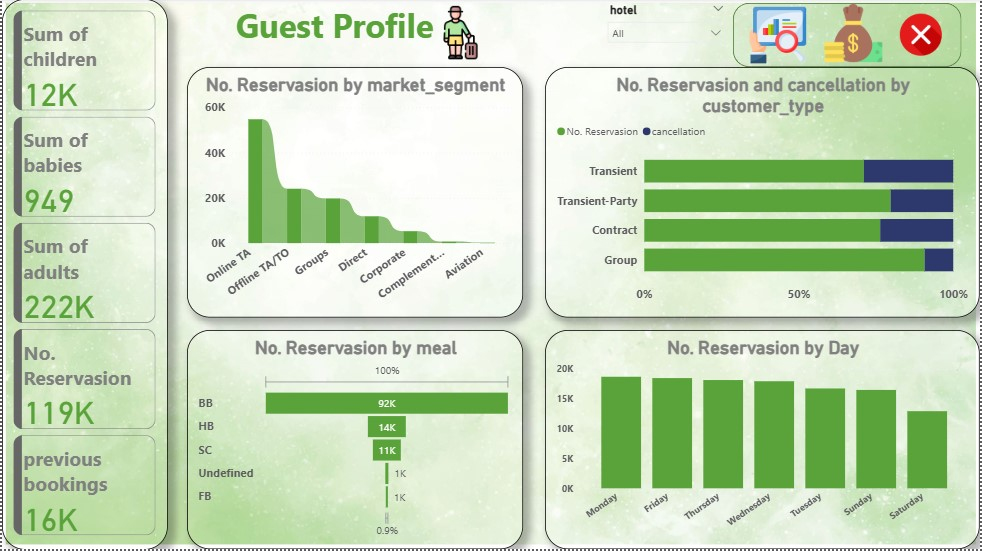

Layout of this report page (visuals, bound fields, positions):
{"tool":"powerbi","page":{"name":"Operational & Guest Profile","canvas":[1280,720],"ordinal":3},"visuals":[{"type":"image","box":[0,0,1280,719.5],"z":0},{"type":"cardVisual","fields":{"Data":["Sum(FactReservation.children)","Sum(FactReservation.babies)","Sum(FactReservation.adults)","MyMeasures.No. Reservasion","Sum(FactReservation.previous_bookings_not_canceled)"]},"box":[0,0,216.7,720.6],"z":1000},{"type":"clusteredColumnChart","fields":{"Category":["FactReservation.Day"],"Y":["MyMeasures.No. Reservasion"]},"box":[710.6,433.4,569.4,287.2],"z":2000},{"type":"funnel","fields":{"Category":["DimMeal.meal"],"Y":["MyMeasures.No. Reservasion"]},"box":[241.9,433.4,440.1,287.2],"z":3000},{"type":"hundredPercentStackedBarChart","fields":{"Category":["FactReservation.customer_type"],"Y":["MyMeasures.No. Reservasion","MyMeasures.cancellation"]},"box":[710.6,89,569.4,327.6],"z":4000},{"type":"ribbonChart","fields":{"Category":["FactReservation.market_segment"],"Y":["MyMeasures.No. Reservasion"]},"box":[241.9,89,440.1,327.6],"z":5000},{"type":"shape","box":[957,5.1,299.1,83.7],"z":6000},{"type":"textbox","box":[300.8,0,299.1,88.9],"z":7000},{"type":"image","box":[969,5.1,94,83.7],"z":8000},{"type":"image","box":[1057.8,0,112.8,88.9],"z":9000},{"type":"image","box":[1170.6,5.1,64.9,83.7],"z":10000},{"type":"image","box":[560.5,0,80.3,88.9],"z":11000},{"type":"slicer","fields":{"Values":["DimHotel.hotel"]},"box":[782.7,0,174.3,88.9],"z":12000}]}

Visuals, with their boxes in screenshot pixels (x1, y1, x2, y2), scaled from the page's 1280x720 canvas onto the 982x551 screenshot:
image: 0/0/981/550
cardVisual - Sum(FactReservation.children) x Sum(FactReservation.babies): 0/0/166/550
clusteredColumnChart - FactReservation.Day x MyMeasures.No. Reservasion: 545/332/981/550
funnel - DimMeal.meal x MyMeasures.No. Reservasion: 186/332/523/550
hundredPercentStackedBarChart - FactReservation.customer_type x MyMeasures.No. Reservasion: 545/68/981/319
ribbonChart - FactReservation.market_segment x MyMeasures.No. Reservasion: 186/68/523/319
shape: 734/4/964/68
textbox: 231/0/460/68
image: 743/4/816/68
image: 812/0/898/68
image: 898/4/948/68
image: 430/0/492/68
slicer - DimHotel.hotel: 600/0/734/68
